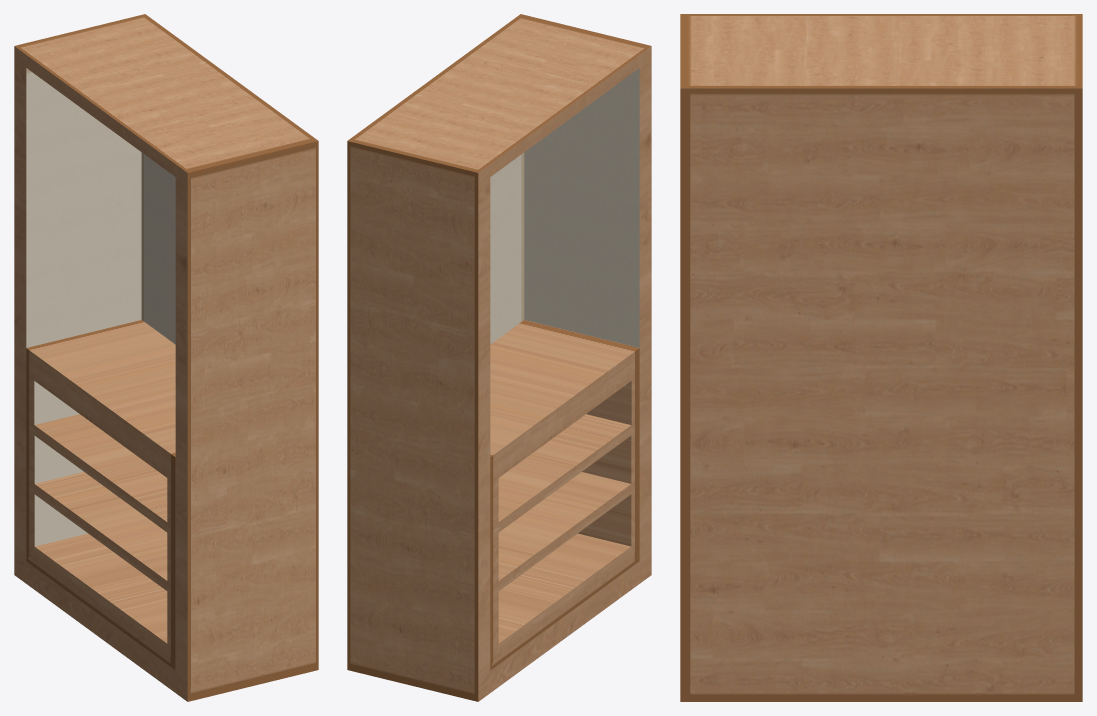
The model's file is Wardrobe_Main.fbx.
3 renders of one model, left to right at view 1: azimuth 30°, elevation 25°; view 2: azimuth 150°, elevation 25°; view 3: azimuth 270°, elevation 25°, orthographic. The views are drawn at different scales.
Parts seen in each view (by area): view 1: Wardrobe; view 2: Wardrobe; view 3: Wardrobe.
Boxes of the visible parts, x1=… form: Wardrobe: x1=14, y1=14, x2=318, y2=701; Wardrobe: x1=347, y1=14, x2=651, y2=701; Wardrobe: x1=680, y1=14, x2=1082, y2=701.
Bounding box in the file's own units: 56.41 × 218 × 129.
